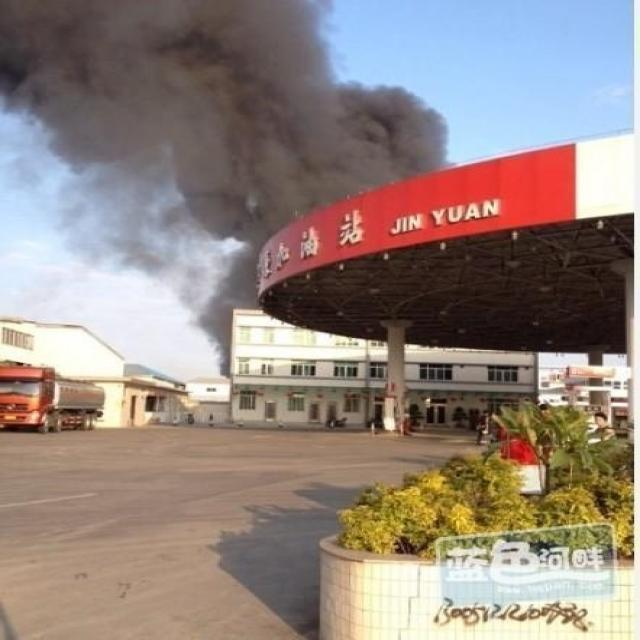Smoke: (1, 1, 454, 380)
